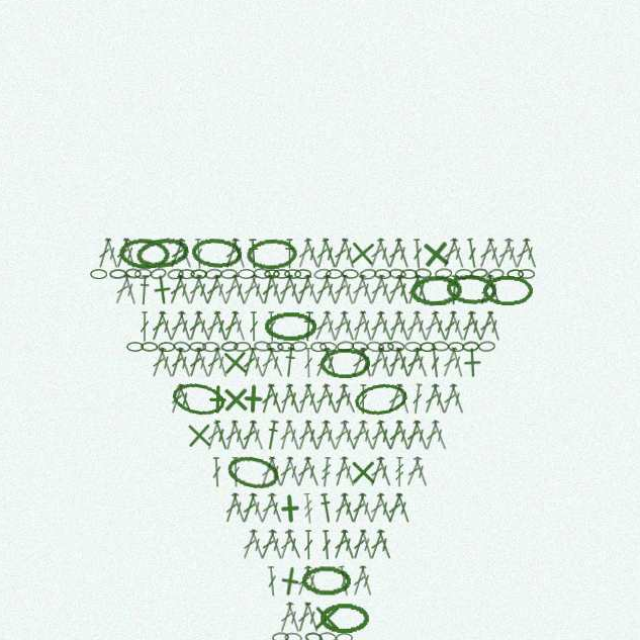chain: (228, 454, 285, 494), (174, 382, 231, 421), (355, 383, 411, 420), (139, 239, 194, 276), (446, 277, 499, 310), (194, 241, 247, 274), (123, 241, 175, 274), (411, 278, 463, 310), (249, 242, 301, 274), (267, 315, 319, 345), (304, 566, 354, 597), (483, 279, 534, 309), (322, 603, 372, 633), (322, 351, 372, 381), (154, 271, 171, 284), (177, 344, 195, 356), (269, 344, 287, 356), (353, 344, 371, 356), (368, 344, 386, 356), (208, 272, 226, 284), (316, 272, 334, 284), (361, 272, 379, 284), (390, 272, 408, 284), (171, 272, 188, 284), (488, 272, 505, 284), (224, 344, 242, 355), (256, 272, 274, 283), (471, 272, 489, 283), (257, 344, 274, 355), (293, 344, 310, 355), (339, 344, 356, 355), (389, 344, 406, 355), (433, 344, 450, 355), (463, 344, 480, 355), (479, 344, 496, 355), (139, 272, 156, 283), (416, 272, 433, 283), (436, 272, 453, 283), (130, 272, 146, 283), (131, 345, 148, 355), (145, 345, 162, 355), (162, 345, 179, 355), (193, 345, 210, 355), (206, 345, 223, 355), (237, 345, 254, 355), (280, 345, 297, 355), (322, 345, 339, 355), (406, 345, 423, 355), (95, 273, 112, 283), (114, 273, 131, 283), (182, 273, 199, 283), (194, 273, 211, 283), (224, 273, 241, 283), (241, 273, 258, 283), (276, 273, 293, 283), (287, 273, 304, 283), (297, 273, 314, 283), (328, 273, 345, 283), (344, 273, 361, 283), (376, 273, 393, 283), (402, 273, 419, 283), (456, 273, 473, 283), (507, 273, 524, 283), (518, 273, 535, 283), (313, 345, 329, 355), (380, 345, 396, 355), (421, 345, 437, 355), (449, 345, 465, 355), (267, 273, 283, 283), (287, 632, 305, 640), (307, 632, 325, 640), (321, 632, 339, 640), (275, 632, 292, 640), (338, 633, 355, 640)
double: (286, 530, 307, 561), (340, 386, 361, 417), (314, 314, 335, 345), (305, 566, 325, 597), (261, 530, 281, 561), (261, 494, 281, 525), (377, 494, 397, 525), (305, 458, 325, 489), (405, 458, 425, 489), (333, 422, 353, 453), (341, 422, 361, 453), (351, 422, 371, 453), (359, 422, 379, 453), (377, 422, 397, 453), (431, 422, 451, 453), (179, 386, 199, 417), (323, 386, 343, 417), (269, 350, 289, 381), (315, 350, 335, 381), (405, 350, 425, 381), (171, 314, 191, 345), (197, 314, 217, 345), (377, 314, 397, 345), (431, 314, 451, 345), (117, 278, 137, 309), (243, 278, 263, 309), (251, 278, 271, 309), (315, 278, 335, 309), (369, 278, 389, 309), (387, 278, 407, 309), (171, 242, 191, 273), (179, 242, 199, 273), (305, 242, 325, 273), (441, 242, 461, 273), (495, 242, 515, 273), (287, 602, 306, 633), (297, 566, 316, 597), (243, 530, 262, 561), (251, 530, 270, 561), (333, 530, 352, 561), (341, 530, 360, 561), (369, 530, 388, 561), (377, 530, 396, 561), (233, 494, 252, 525), (243, 494, 262, 525), (251, 494, 270, 525), (269, 494, 288, 525), (341, 494, 360, 525), (351, 494, 370, 525), (359, 494, 378, 525), (369, 494, 388, 525), (387, 494, 406, 525), (261, 458, 280, 489), (279, 458, 298, 489), (297, 458, 316, 489), (341, 458, 360, 489), (369, 458, 388, 489), (377, 458, 396, 489), (413, 458, 432, 489), (233, 422, 252, 453), (243, 422, 262, 453), (251, 422, 270, 453), (287, 422, 306, 453), (315, 422, 334, 453), (323, 422, 342, 453), (405, 422, 424, 453), (413, 422, 432, 453), (269, 386, 288, 417), (287, 386, 306, 417), (315, 386, 334, 417), (387, 386, 406, 417), (423, 386, 442, 417), (431, 386, 450, 417), (441, 386, 460, 417), (449, 386, 468, 417), (153, 350, 172, 381), (161, 350, 180, 381), (179, 350, 198, 381), (197, 350, 216, 381), (251, 350, 270, 381), (261, 350, 280, 381), (351, 350, 370, 381), (369, 350, 388, 381), (413, 350, 432, 381), (441, 350, 460, 381), (153, 314, 172, 345), (161, 314, 180, 345), (207, 314, 226, 345), (225, 314, 244, 345), (233, 314, 252, 345), (333, 314, 352, 345), (341, 314, 360, 345), (369, 314, 388, 345), (395, 314, 414, 345), (405, 314, 424, 345), (413, 314, 432, 345), (423, 314, 442, 345), (449, 314, 468, 345), (467, 314, 486, 345), (477, 314, 496, 345), (171, 278, 190, 309), (179, 278, 198, 309), (197, 278, 216, 309), (207, 278, 226, 309), (215, 278, 234, 309), (225, 278, 244, 309), (279, 278, 298, 309), (297, 278, 316, 309), (305, 278, 324, 309), (333, 278, 352, 309), (351, 278, 370, 309), (359, 278, 378, 309), (485, 278, 504, 309), (233, 242, 252, 273), (323, 242, 342, 273), (333, 242, 352, 273), (369, 242, 388, 273), (377, 242, 396, 273), (387, 242, 406, 273), (395, 242, 414, 273), (477, 242, 496, 273), (503, 242, 522, 273), (513, 242, 532, 273), (521, 242, 540, 273), (280, 602, 298, 633), (306, 602, 324, 633), (352, 566, 370, 597), (270, 530, 288, 561), (280, 530, 298, 561), (352, 530, 370, 561), (360, 530, 378, 561), (226, 494, 244, 525), (334, 494, 352, 525), (396, 494, 414, 525), (270, 458, 288, 489), (288, 458, 306, 489), (334, 458, 352, 489), (208, 422, 226, 453), (216, 422, 234, 453), (298, 422, 316, 453), (306, 422, 324, 453), (370, 422, 388, 453), (388, 422, 406, 453), (396, 422, 414, 453), (424, 422, 442, 453), (172, 386, 190, 417), (280, 386, 298, 417), (298, 386, 316, 417), (306, 386, 324, 417), (334, 386, 352, 417), (396, 386, 414, 417), (172, 350, 190, 381), (190, 350, 208, 381), (208, 350, 226, 381), (216, 350, 234, 381), (324, 350, 342, 381), (378, 350, 396, 381), (396, 350, 414, 381), (180, 314, 198, 345), (190, 314, 208, 345), (216, 314, 234, 345), (324, 314, 342, 345), (352, 314, 370, 345), (388, 314, 406, 345), (442, 314, 460, 345), (460, 314, 478, 345), (486, 314, 504, 345), (126, 278, 144, 309), (190, 278, 208, 309), (234, 278, 252, 309), (270, 278, 288, 309), (288, 278, 306, 309), (324, 278, 342, 309), (378, 278, 396, 309), (396, 278, 414, 309), (406, 278, 424, 309), (414, 278, 432, 309), (478, 278, 496, 309), (100, 242, 118, 273), (108, 242, 126, 273), (118, 242, 136, 273), (226, 242, 244, 273), (298, 242, 316, 273), (342, 242, 360, 273), (450, 242, 468, 273), (486, 242, 504, 273), (298, 602, 315, 633), (360, 566, 377, 597), (226, 422, 243, 453), (280, 422, 297, 453), (262, 386, 279, 417), (244, 350, 261, 381), (360, 350, 377, 381), (388, 350, 405, 381), (450, 350, 467, 381), (360, 314, 377, 345), (342, 278, 359, 309), (126, 242, 143, 273), (316, 242, 333, 273), (263, 278, 279, 309), (339, 566, 354, 597), (466, 242, 480, 273), (412, 386, 425, 417), (430, 351, 443, 381), (269, 567, 281, 597), (323, 531, 335, 561), (413, 243, 425, 273), (215, 459, 226, 489), (269, 315, 280, 345), (197, 243, 208, 273), (306, 531, 316, 561), (234, 459, 244, 489), (360, 387, 370, 417), (306, 351, 316, 381), (144, 315, 154, 345), (252, 315, 262, 345)
half_double: (267, 422, 283, 453), (321, 494, 336, 525), (285, 350, 300, 381), (304, 315, 318, 345), (142, 279, 155, 309), (250, 243, 263, 273), (449, 279, 461, 309), (287, 243, 298, 273)
single: (276, 565, 310, 599), (150, 277, 183, 310), (277, 494, 309, 526), (421, 242, 453, 274), (241, 386, 272, 417), (223, 350, 254, 381), (349, 242, 380, 273), (188, 422, 218, 453), (458, 350, 488, 381), (314, 603, 344, 633), (350, 459, 380, 489), (206, 387, 236, 417), (224, 387, 254, 417)
treble: (322, 459, 335, 489), (305, 495, 317, 525), (396, 459, 406, 489)
